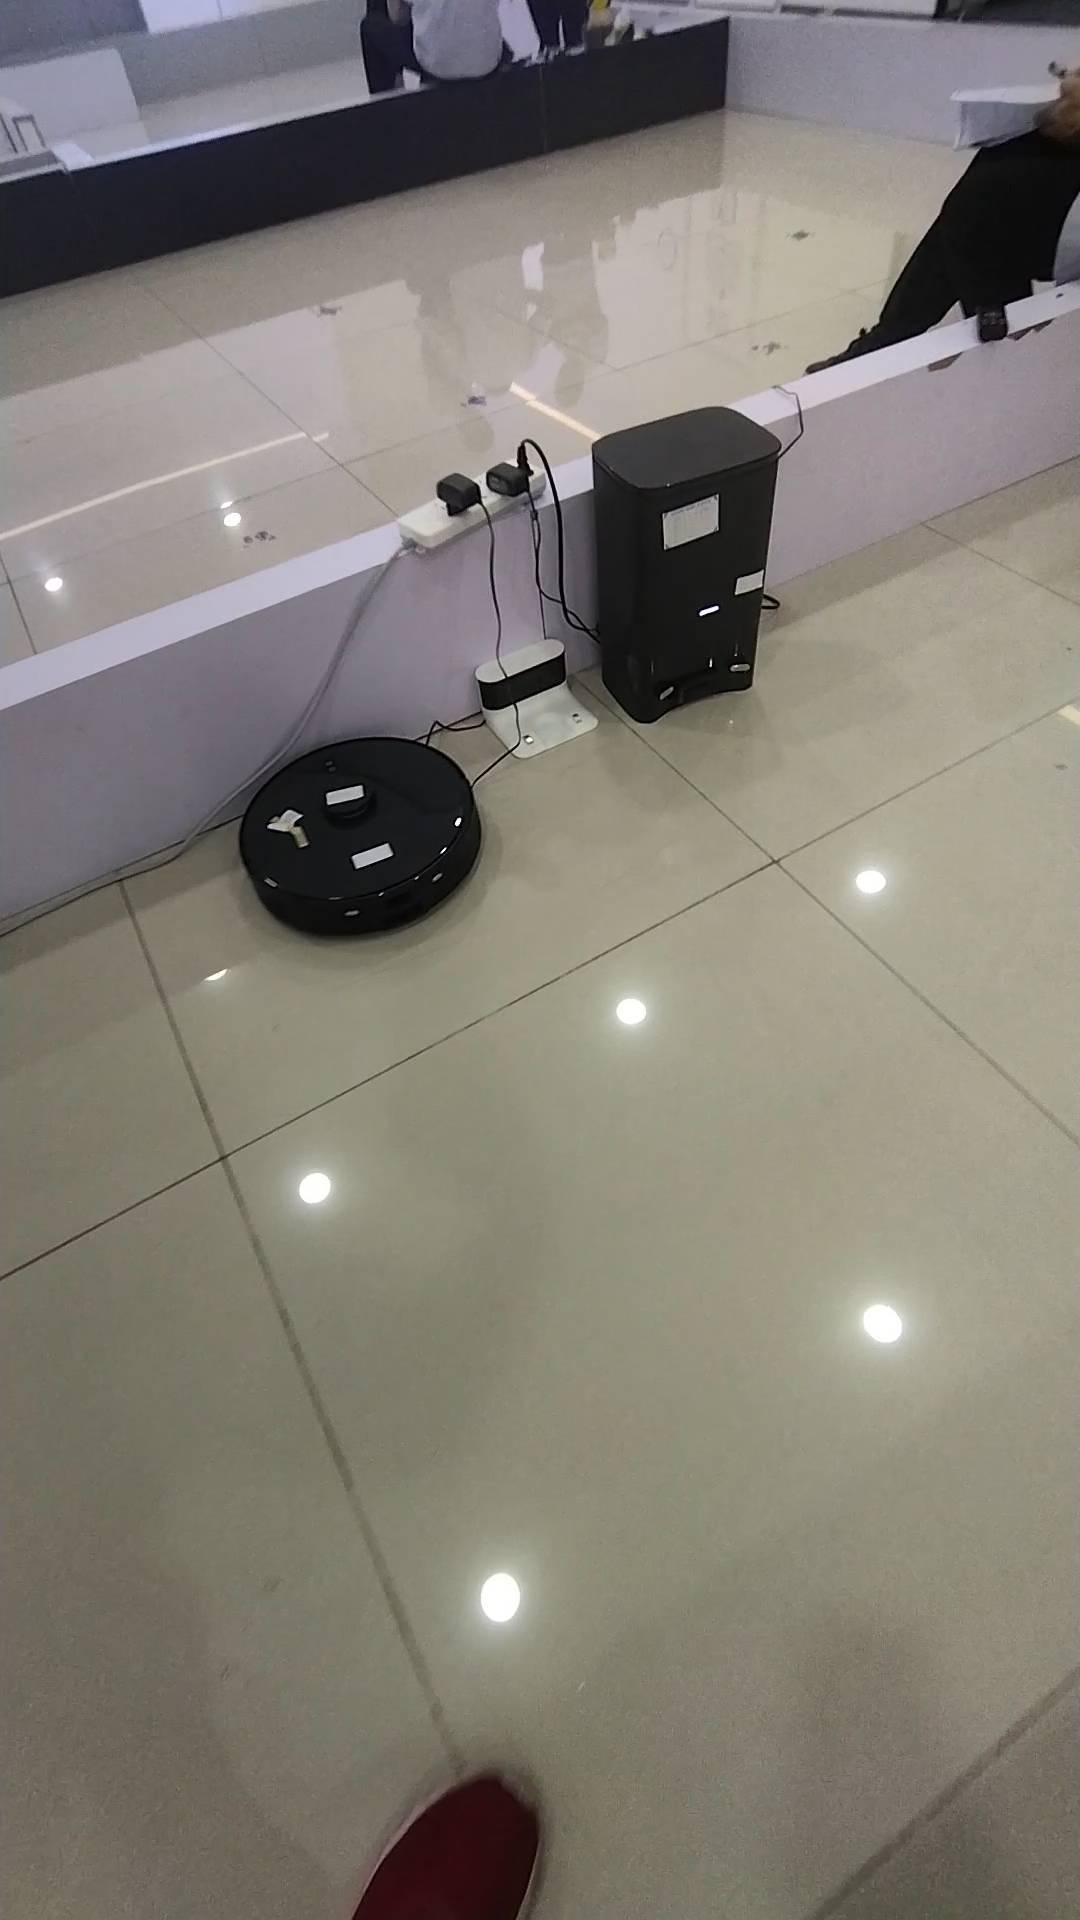dust collecting barrel: (593, 406, 783, 724)
recharge seat: (472, 641, 600, 761)
